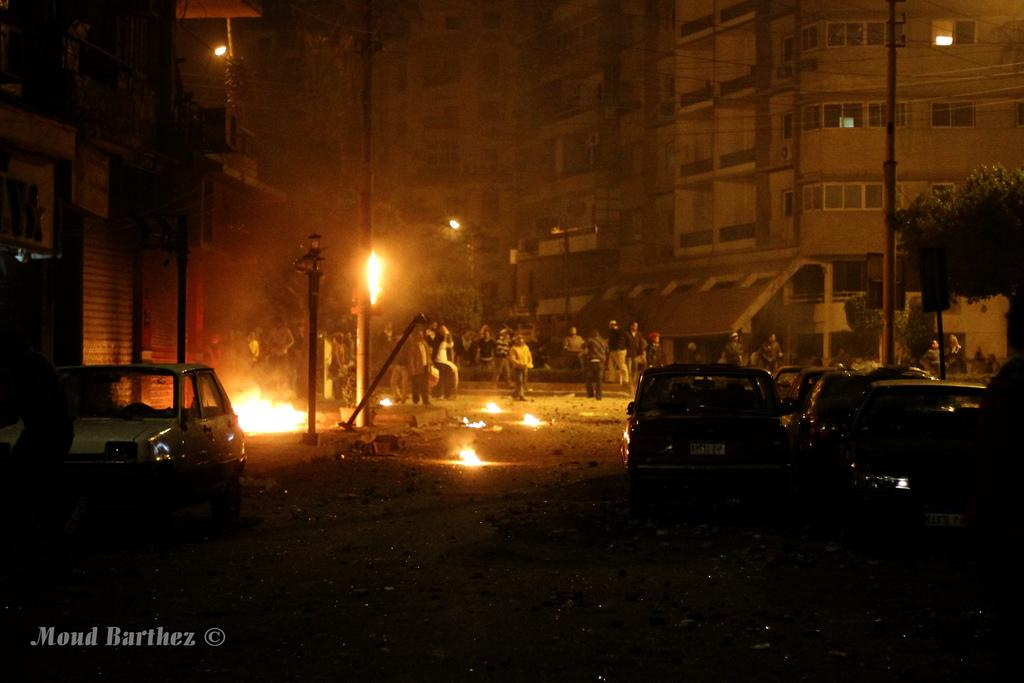fire: (235, 393, 293, 428), (455, 438, 482, 470), (367, 248, 383, 295), (517, 408, 535, 437)
